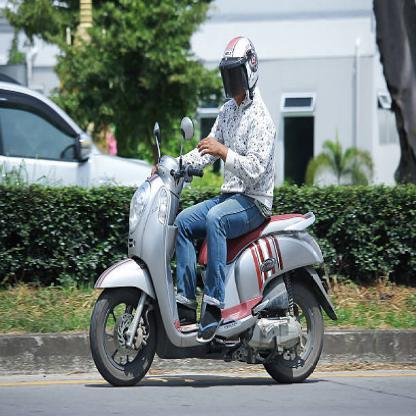Motorcycle: (88, 145, 329, 390)
